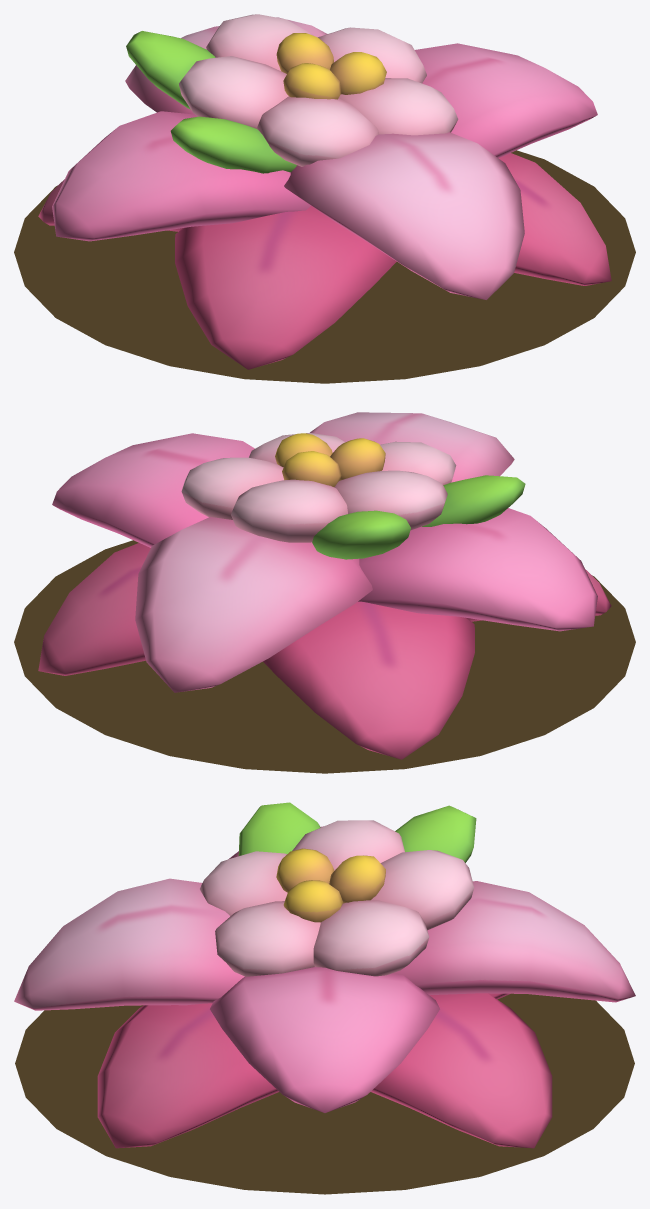
Rendered from JpFlower01A.fbx.
3 views of the same model, one above another, from view 1: azimuth 30°, elevation 25°; view 2: azimuth 150°, elevation 25°; view 3: azimuth 270°, elevation 25° (orthographic).
Parts seen in each view (by area): view 1: polySurface2, polySurface1; view 2: polySurface2, polySurface1; view 3: polySurface2, polySurface1.
Boxes of the visible parts, x1,y1,x2,y2 form: polySurface2: (38, 14, 611, 369); polySurface1: (14, 150, 635, 383); polySurface2: (38, 412, 611, 759); polySurface1: (14, 540, 635, 773); polySurface2: (14, 802, 635, 1148); polySurface1: (15, 993, 634, 1194).
Size of the model in its own units: 125 by 45.24 by 125.
